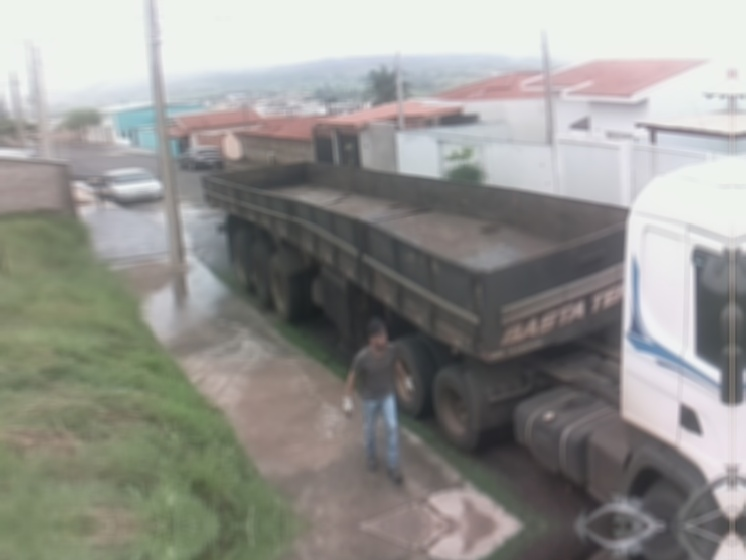person: (341, 317, 417, 483)
